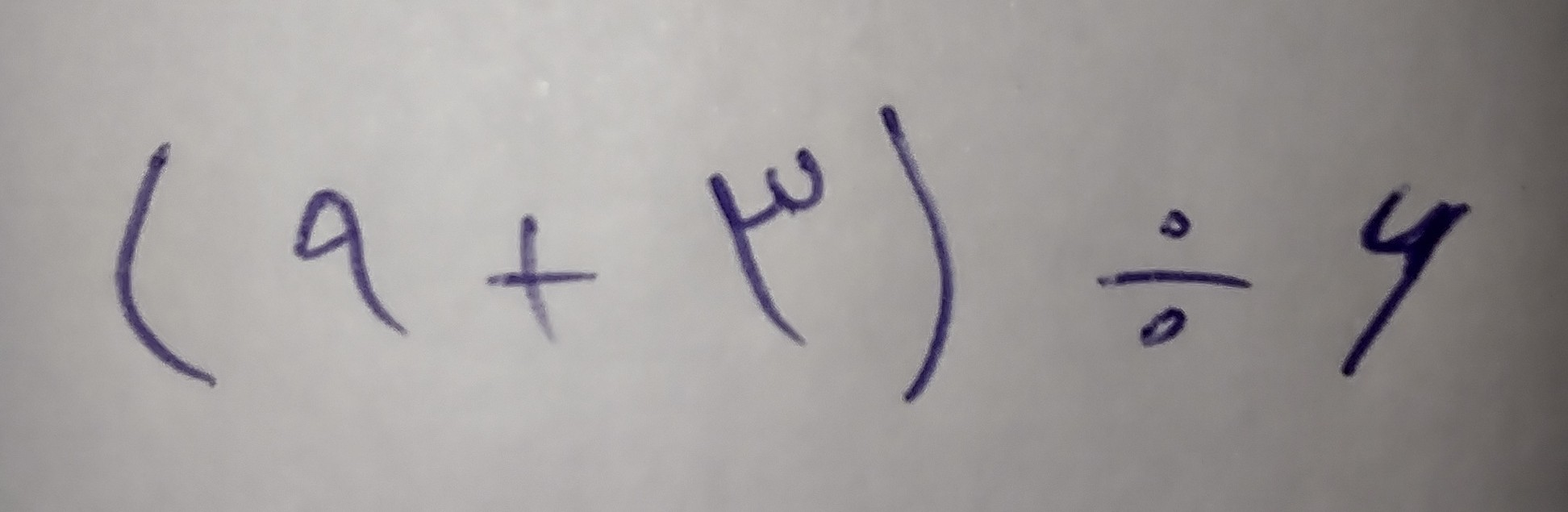character: (1340, 183, 1473, 388), (115, 140, 219, 387), (707, 145, 824, 348), (879, 104, 956, 404), (1096, 208, 1251, 350), (293, 189, 410, 336), (486, 215, 596, 347)
